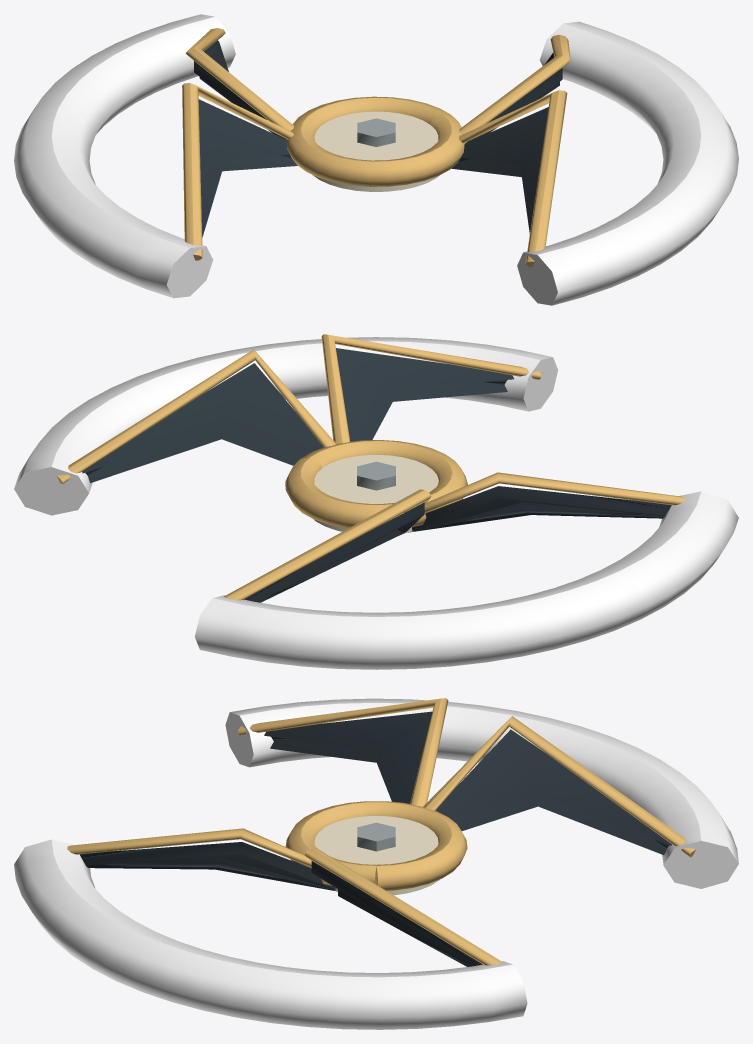
File: Wheel_28_UR_黒漆・本金縁.glb
3 renders of one model, top to bottom at view 1: azimuth 30°, elevation 25°; view 2: azimuth 150°, elevation 25°; view 3: azimuth 270°, elevation 25°, orthographic.
Visible parts, largest first — view 1: Wheel_28_UR; view 2: Wheel_28_UR; view 3: Wheel_28_UR.
Boxes of the visible parts, <box> form: Wheel_28_UR: <box>14,14,738,305</box>; Wheel_28_UR: <box>14,334,738,669</box>; Wheel_28_UR: <box>14,698,738,1029</box>.
Size of the model in its own units: 0.326 by 0.057 by 0.326.
Materials: 4 (4 with a texture image).
